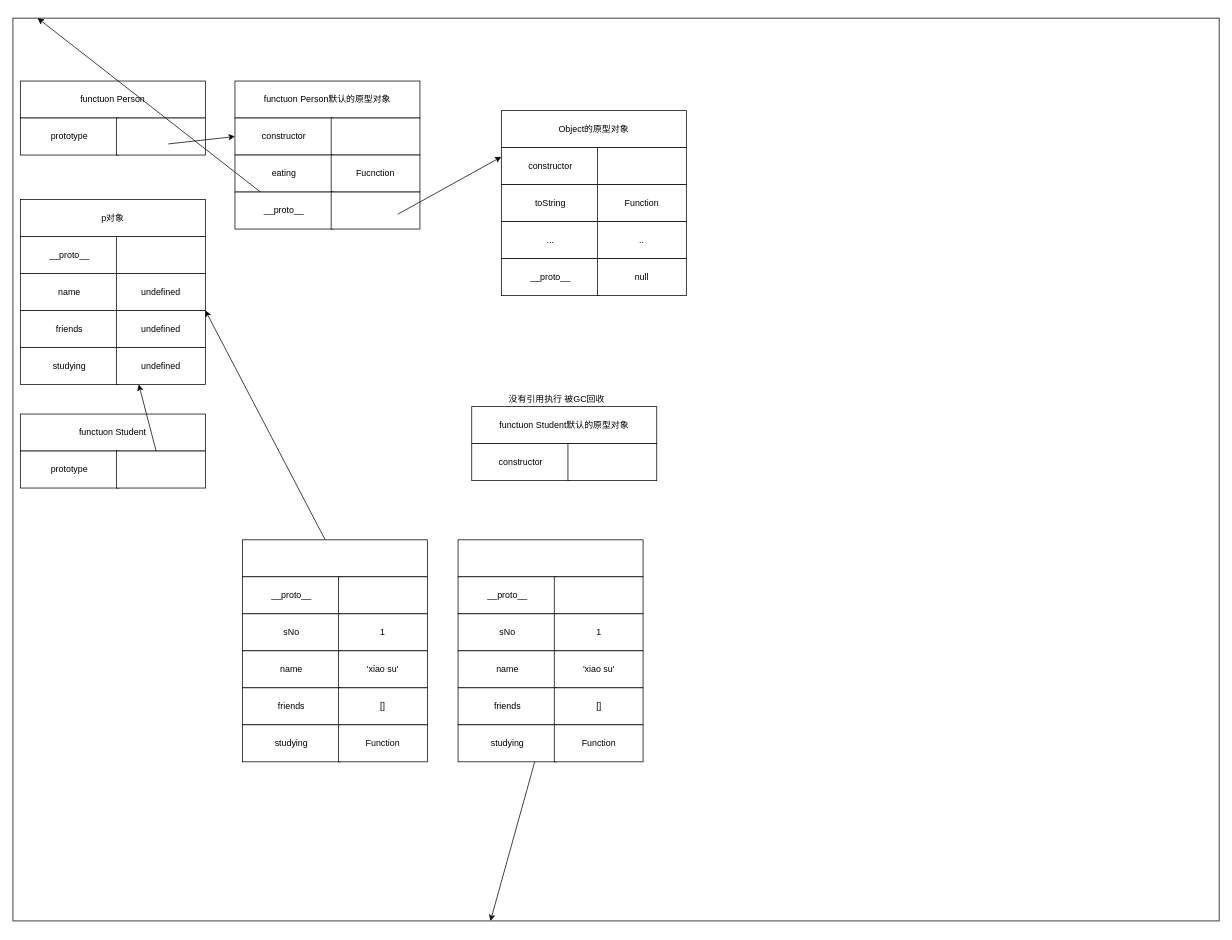
Some shapes in this 1232 by 940 pixel diagram are drawn without their labels. Here are the shapes that lost their labels. From the top down, the centre of each, then its label:
At point (334, 558): "stu1对象".
At point (550, 558): "stu2对象".
